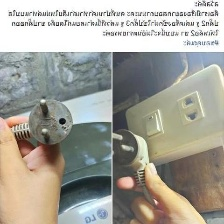three_eye_plug: (122, 58, 224, 168)
